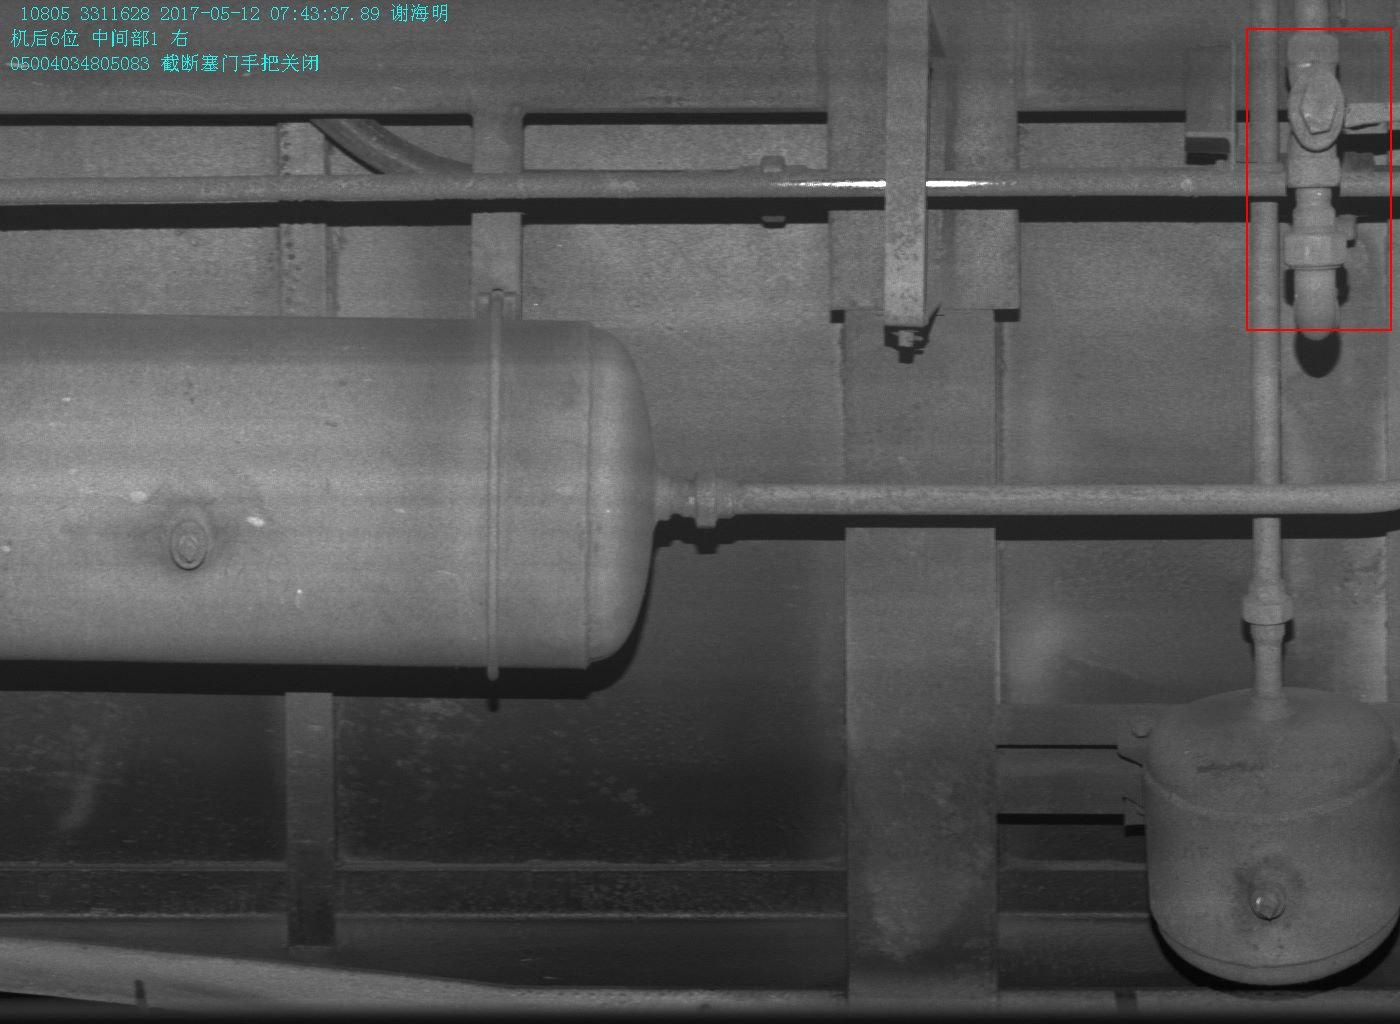truncated plug door handle: (1284, 66, 1400, 154)
